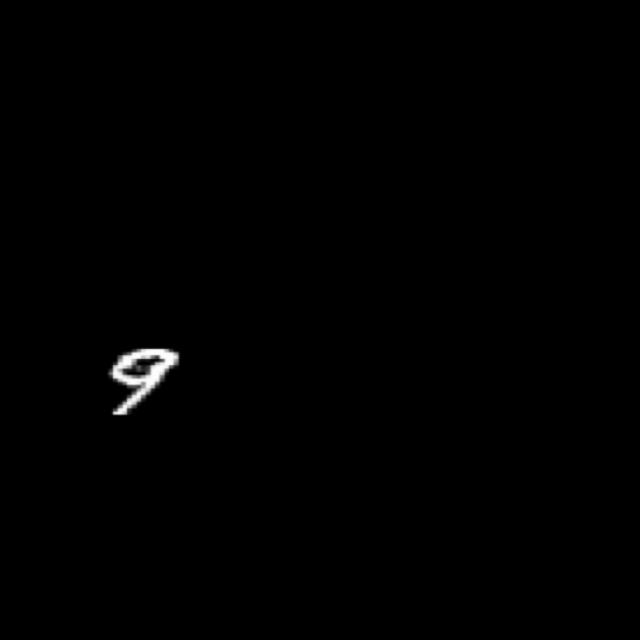nine -9-: (90, 334, 196, 424)
